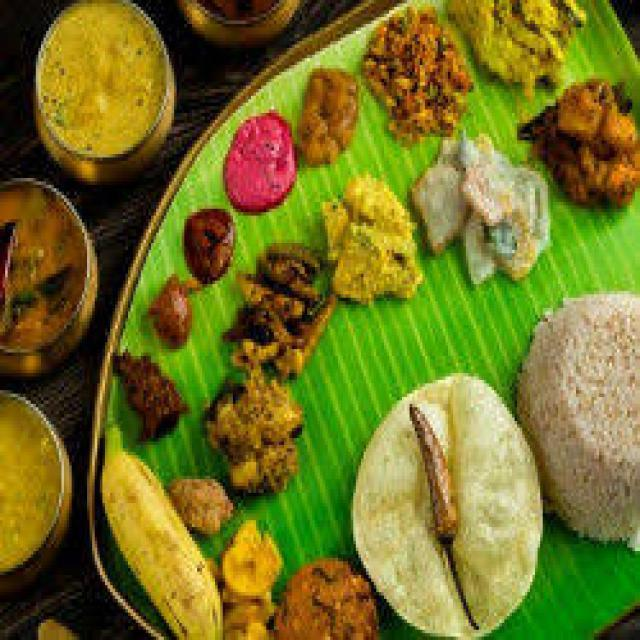dal: (35, 11, 174, 166), (2, 391, 74, 595)
pickle: (176, 207, 241, 288)
rice: (516, 284, 638, 526)
veg-fry: (0, 186, 96, 372), (534, 73, 638, 209), (263, 545, 382, 640)
